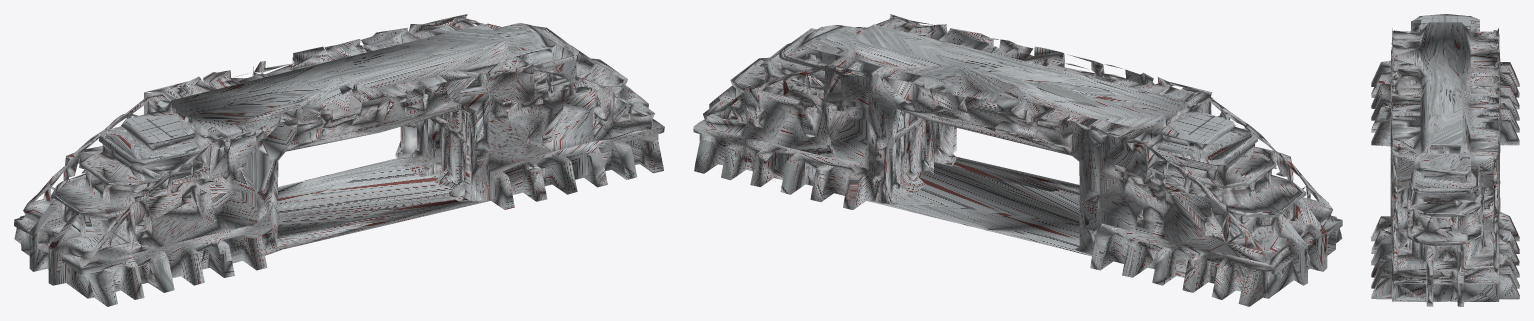
Rendered from sullustfactory.lod1.glb.
3 renders of one model, left to right at view 1: azimuth 30°, elevation 25°; view 2: azimuth 150°, elevation 25°; view 3: azimuth 270°, elevation 25°, orthographic. The views are drawn at different scales.
Visible parts, largest first — view 1: sullustfactory-centred; view 2: sullustfactory-centred; view 3: sullustfactory-centred.
Boxes of the visible parts, x1=… form: sullustfactory-centred: x1=14, y1=14, x2=664, y2=306; sullustfactory-centred: x1=693, y1=14, x2=1342, y2=306; sullustfactory-centred: x1=1371, y1=14, x2=1519, y2=306.
Bounding box in the file's own units: 110 × 23.94 × 29.83.
1 material, 1 textured.
